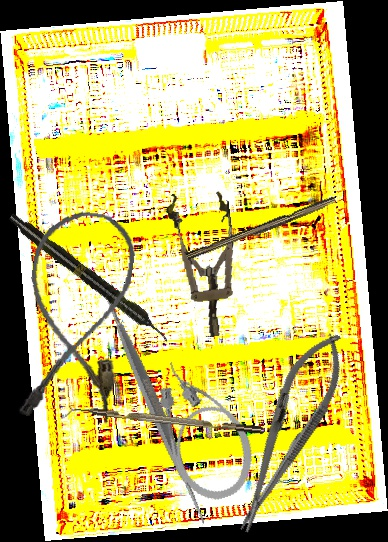Cannula: (12, 205, 140, 428), (145, 346, 264, 510)
Chopper: (61, 402, 264, 444)
Handpiece: (5, 209, 174, 347)
Needle Holder: (218, 322, 359, 542)
Scalpel Handle: (185, 193, 338, 265)
Spatula Surgical: (18, 269, 287, 537)
Speculum: (165, 187, 245, 341)
